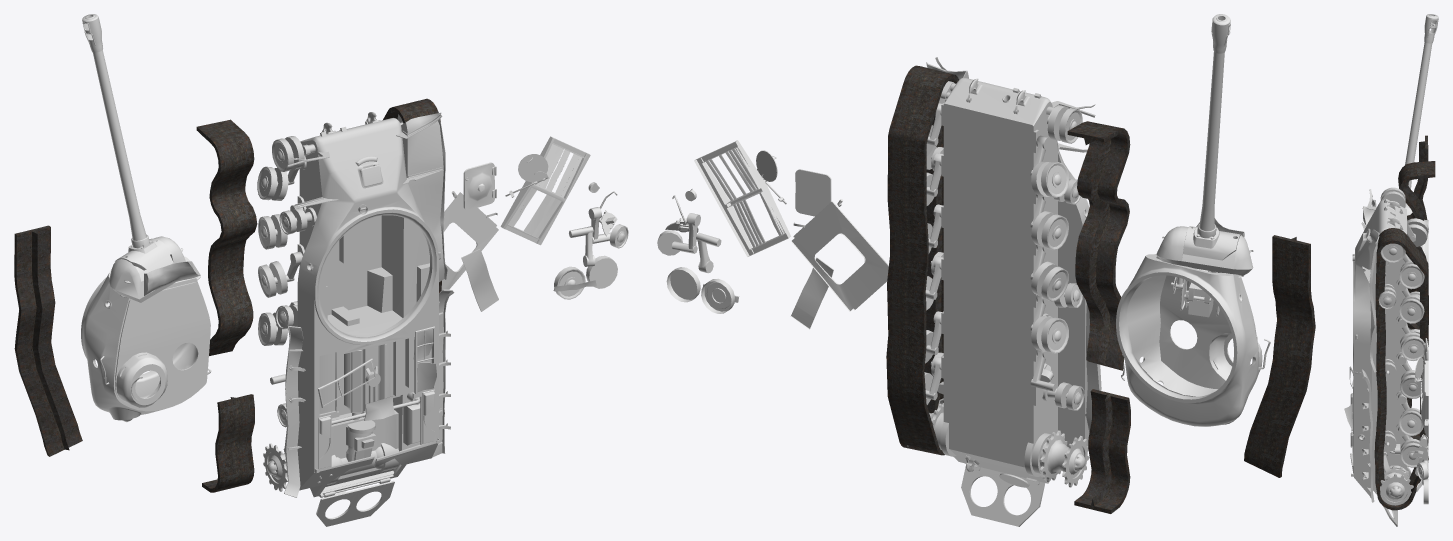
File: hd_mle_UNI_004_TankCrash.fbx
3 views of the same model, side by side, from view 1: azimuth 30°, elevation 25°; view 2: azimuth 150°, elevation 25°; view 3: azimuth 270°, elevation 25° (orthographic). The views are drawn at different scales.
Parts seen in each view (by area): view 1: set_0_group_0.001, set_0_group_0.004, set_0_group_0.002, set_0_group_0.003, set_0_group_0.005, set_0_group_0, set_0_group_1; view 2: set_0_group_0.001, set_0_group_0.004, set_0_group_1, set_0_group_0.002, set_0_group_0.003, set_0_group_0.005, set_0_group_0; view 3: set_0_group_0.001, set_0_group_1, set_0_group_0.004, set_0_group_0.005, set_0_group_0.002, set_0_group_0.003.
Boxes of the visible parts, x1,y1,x2,y2 form: set_0_group_0.001: (257, 112, 454, 526); set_0_group_0.004: (81, 14, 211, 422); set_0_group_0.002: (196, 119, 257, 492); set_0_group_0.003: (14, 225, 82, 456); set_0_group_0.005: (500, 136, 628, 299); set_0_group_0: (441, 162, 498, 311); set_0_group_1: (383, 98, 444, 416); set_0_group_0.001: (907, 57, 1101, 526); set_0_group_0.004: (1116, 14, 1270, 426); set_0_group_1: (886, 65, 958, 455); set_0_group_0.002: (1067, 121, 1130, 513); set_0_group_0.003: (1244, 235, 1315, 477); set_0_group_0.005: (657, 140, 790, 313); set_0_group_0: (791, 169, 888, 329); set_0_group_0.001: (1344, 187, 1428, 526); set_0_group_1: (1374, 228, 1428, 510); set_0_group_0.004: (1362, 14, 1438, 329); set_0_group_0.005: (1412, 357, 1428, 504); set_0_group_0.002: (1398, 161, 1435, 440); set_0_group_0.003: (1413, 135, 1428, 219).
Bounding box in the file's own units: 1164 × 993 × 205.
